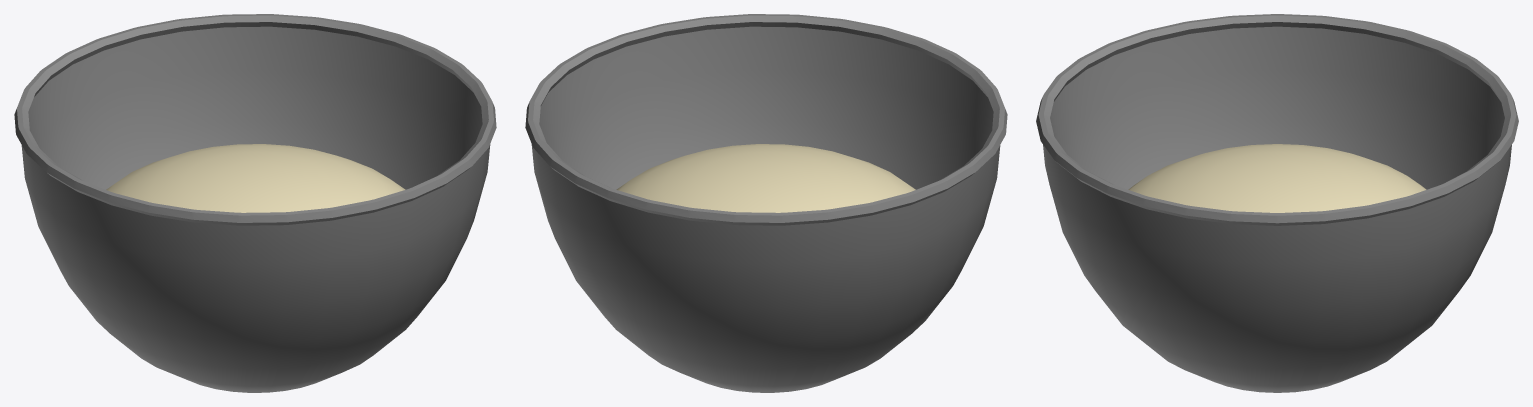
The model's file is SkålarMelange_VR_Mio.fbx.
3 views of the same model, side by side, from view 1: azimuth 30°, elevation 25°; view 2: azimuth 150°, elevation 25°; view 3: azimuth 270°, elevation 25° (orthographic).
Visible parts, largest first — view 1: Sphere, Sphere.001; view 2: Sphere, Sphere.001; view 3: Sphere, Sphere.001.
Boxes of the visible parts, x1,y1,x2,y2 form: Sphere: (14,14,496,392); Sphere.001: (106,144,405,212); Sphere: (525,14,1007,392); Sphere.001: (616,144,915,212); Sphere: (1036,14,1518,392); Sphere.001: (1128,144,1426,212).
Bounding box in the file's own units: 31.15 × 17.1 × 31.15.
